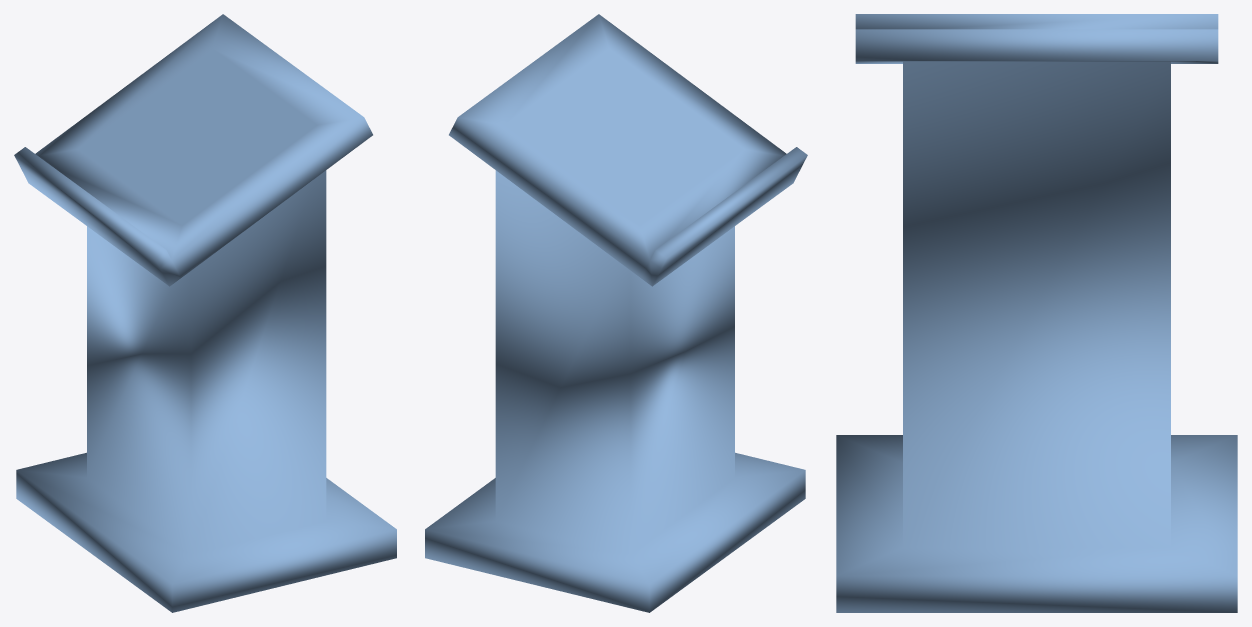
Rendered from pupitre_uv.fbx.
3 views of the same model, side by side, from view 1: azimuth 30°, elevation 25°; view 2: azimuth 150°, elevation 25°; view 3: azimuth 270°, elevation 25° (orthographic). The views are drawn at different scales.
Visible parts, largest first — view 1: version3dstomaya:Box001; view 2: version3dstomaya:Box001; view 3: version3dstomaya:Box001.
Part boxes in pixels (box(x1,y1,x2,y2)): version3dstomaya:Box001: box(14, 14, 396, 612); version3dstomaya:Box001: box(425, 14, 807, 612); version3dstomaya:Box001: box(836, 14, 1237, 612).
Bounding box in the file's own units: 197 × 355 × 227.
